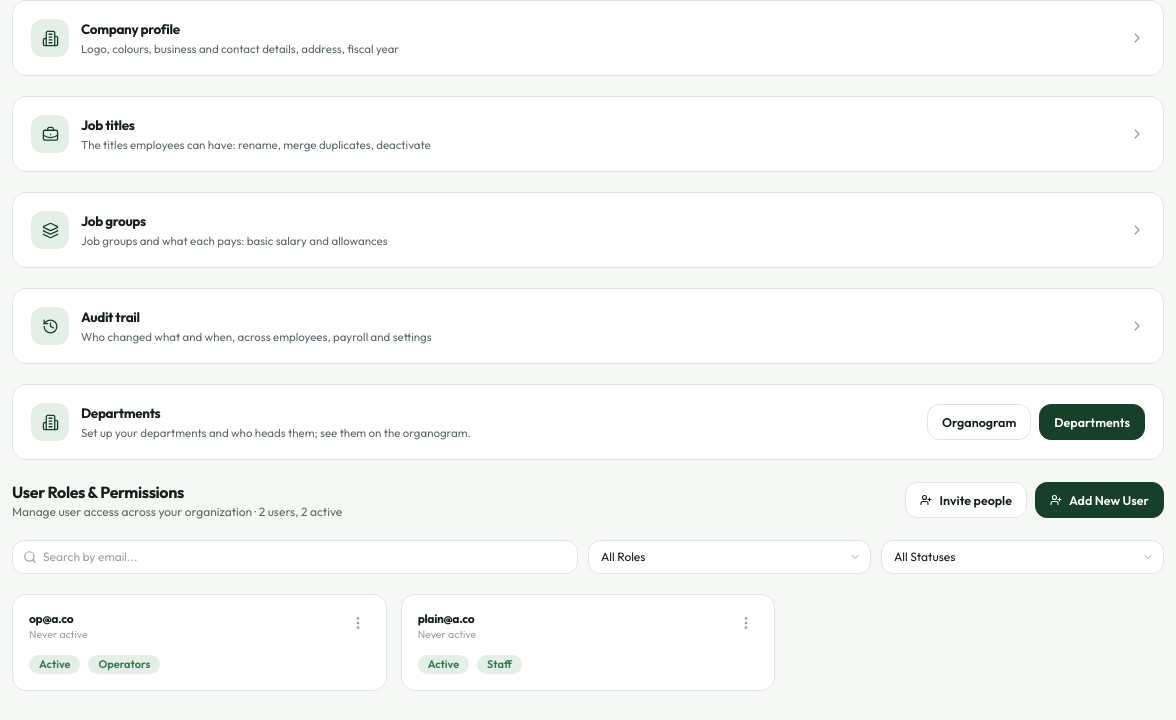
UserRolesSettings with company roles › shows each person’s role by the company’s name and filters by it
Expected: the heading "op@a.co" is shown, [29,611,73,626]
Expected: the text "Operators" is shown, [88,655,160,674]
Select "Operators" in the dropdown named "Filter by role" at (730, 557), box [588,540,871,574]
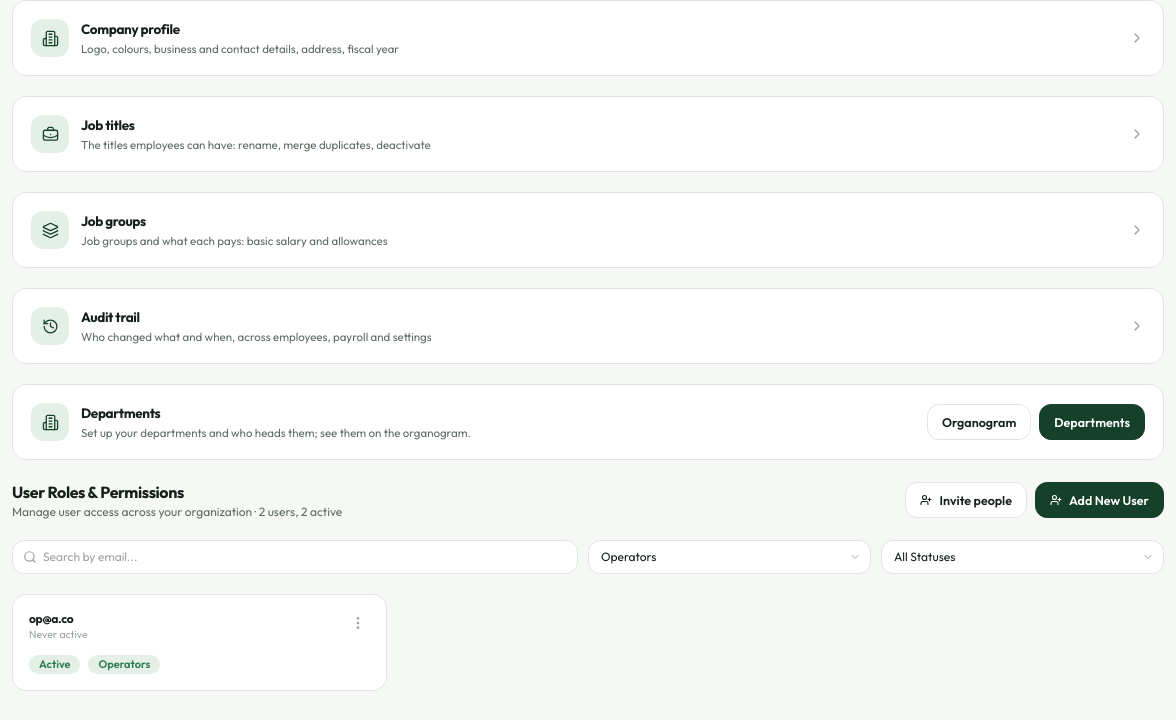
Expected: the heading "op@a.co" is shown, [29,611,73,626]
Expected: the heading "plain@a.co" is gone
